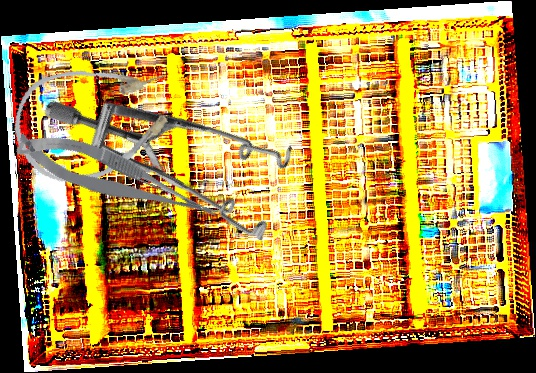Cannula: (3, 46, 189, 196)
Micro Scissor: (11, 112, 223, 247)
Speculum: (40, 3, 326, 301)
